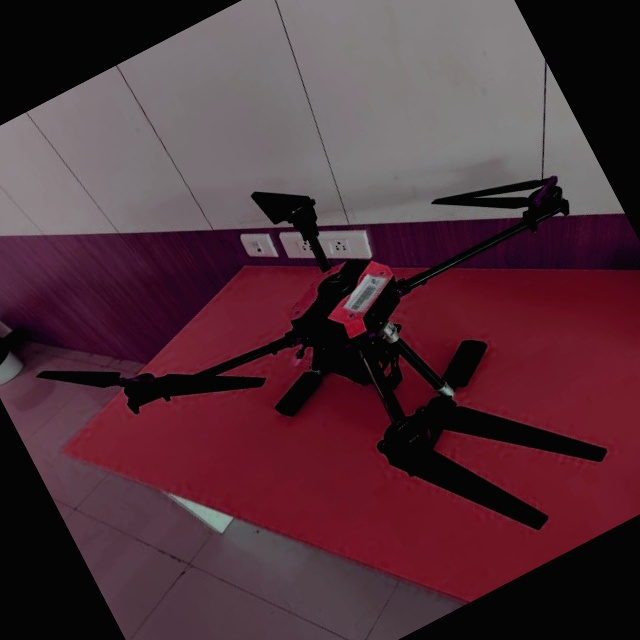quadcopter: (0, 57, 640, 640)
